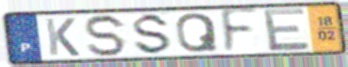E: (261, 6, 313, 54)
F: (219, 6, 261, 57)
K: (43, 17, 82, 58)
Q: (174, 11, 220, 54)
S: (83, 13, 129, 59), (131, 12, 174, 57)
